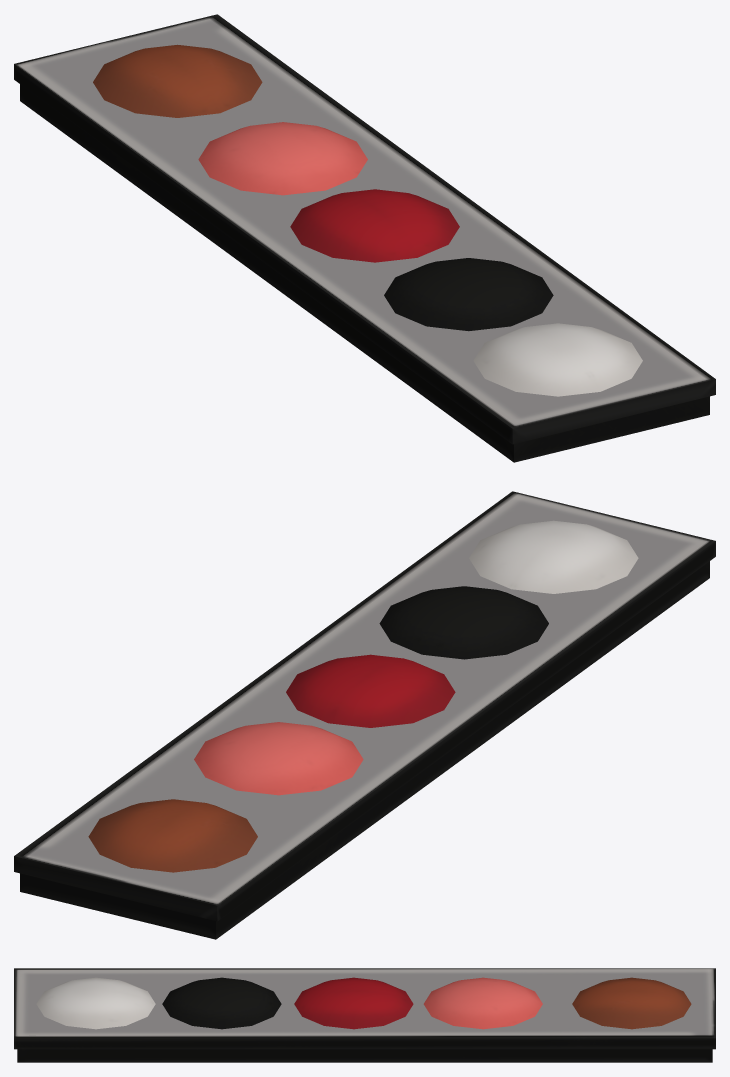
File: Small Makeup Palette.fbx
3 renders of one model, top to bottom at view 1: azimuth 30°, elevation 25°; view 2: azimuth 150°, elevation 25°; view 3: azimuth 270°, elevation 25°, orthographic. The views are drawn at different scales.
Visible parts, largest first — view 1: Paint_Makeup_Long, PaintCircle_16, PaintCircle_15, PaintCircle_17, PaintCircle_1, PaintCircle_14; view 2: Paint_Makeup_Long, PaintCircle_17, PaintCircle_1, PaintCircle_15, PaintCircle_14, PaintCircle_16; view 3: Paint_Makeup_Long, PaintCircle_17, PaintCircle_15, PaintCircle_14, PaintCircle_16, PaintCircle_1.
Part boxes in pixels (x1,y1,x2,y2): Paint_Makeup_Long: (14, 14, 715, 462); PaintCircle_16: (198, 122, 367, 195); PaintCircle_15: (290, 189, 459, 262); PaintCircle_17: (93, 44, 262, 117); PaintCircle_1: (473, 323, 642, 396); PaintCircle_14: (384, 258, 553, 331); Paint_Makeup_Long: (14, 491, 715, 939); PaintCircle_17: (88, 799, 257, 872); PaintCircle_1: (469, 520, 638, 593); PaintCircle_15: (286, 654, 455, 727); PaintCircle_14: (379, 586, 548, 659); PaintCircle_16: (194, 722, 363, 795); Paint_Makeup_Long: (14, 968, 715, 1062); PaintCircle_17: (572, 977, 691, 1029); PaintCircle_15: (294, 977, 413, 1029); PaintCircle_14: (162, 977, 281, 1029); PaintCircle_16: (423, 977, 542, 1029); PaintCircle_1: (36, 977, 155, 1029).
Bounding box in the file's own units: 3.03 × 0.7876 × 12.87.
